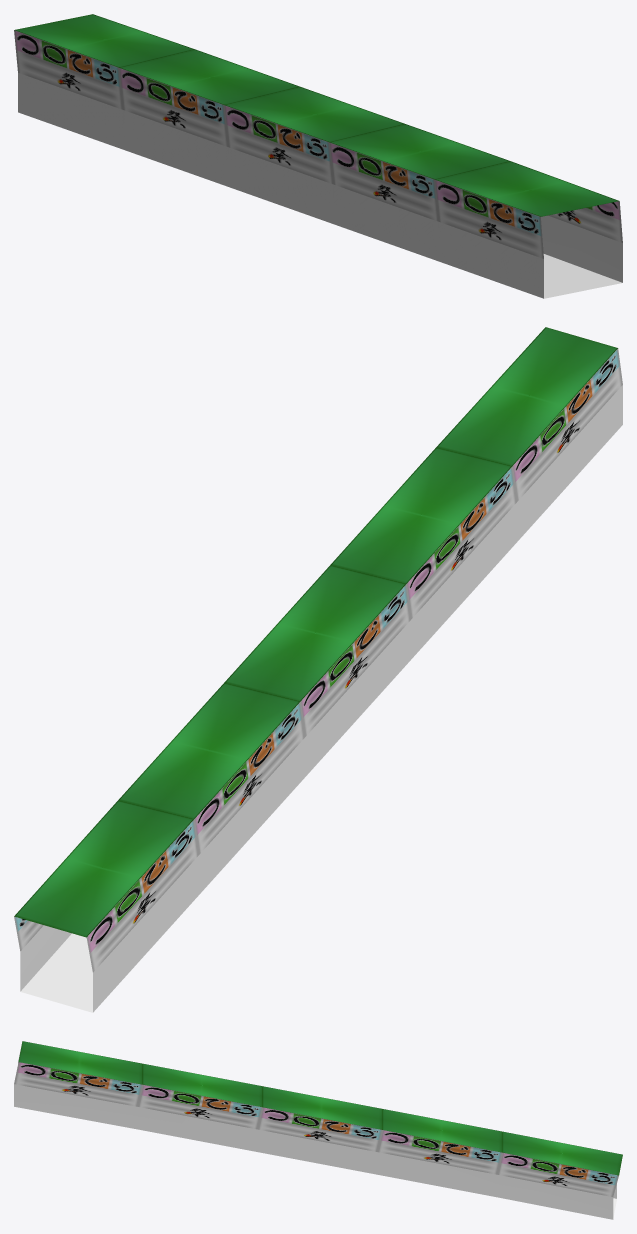
Rendered from CourseWinter_Wall_R_9.fbx.
The picture shows the model from 3 angles, top to bottom: view 1: azimuth 30°, elevation 25°; view 2: azimuth 150°, elevation 25°; view 3: azimuth 270°, elevation 25°; orthographic projection. The views are drawn at different scales.
Parts seen in each view (by area): view 1: polySurface436; view 2: polySurface436; view 3: polySurface436.
Part boxes in pixels (bbox=[...]): polySurface436: bbox=[14, 14, 622, 298]; polySurface436: bbox=[14, 327, 622, 1012]; polySurface436: bbox=[14, 1041, 622, 1219].
Bounding box in the file's own units: 2.02 × 6.98 × 24.39.
1 material, 1 textured.
